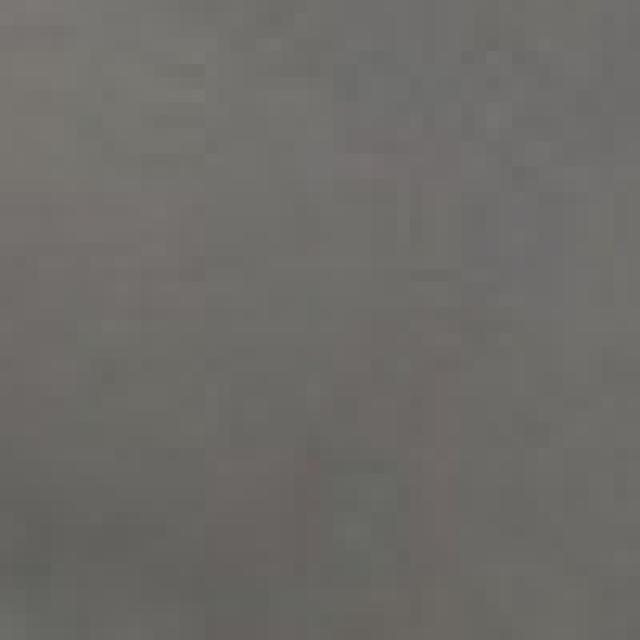fire: (10, 20, 640, 588)
